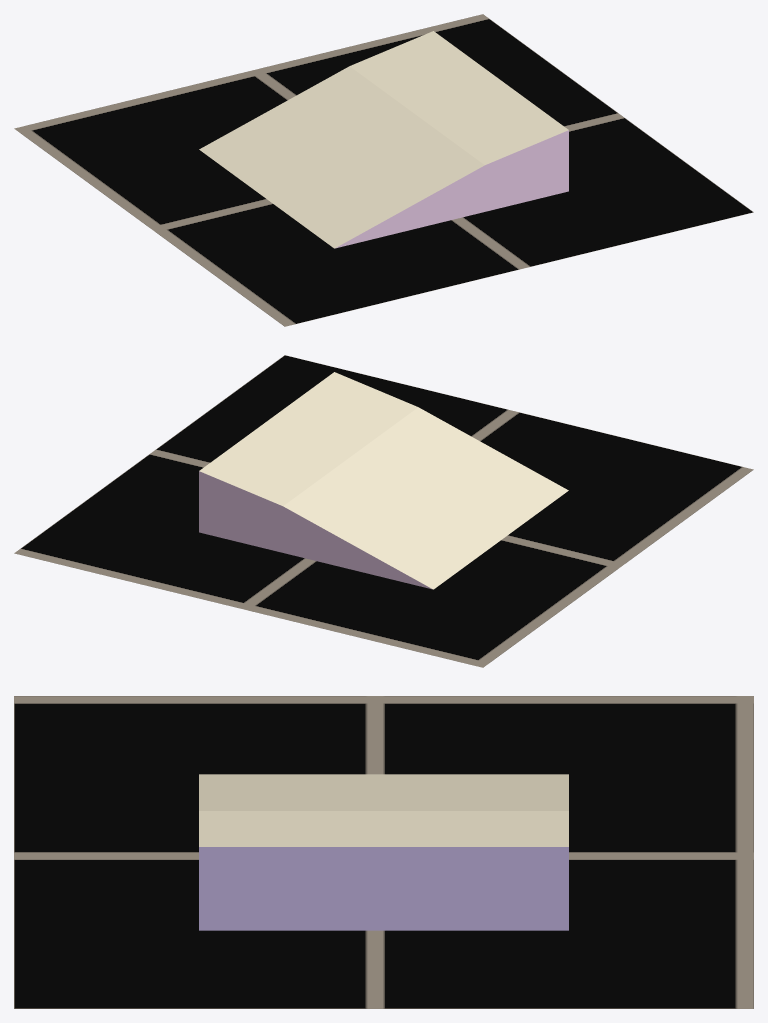
The model's file is Path_Terrain_Transition_Grass_Center_1x1.glb.
3 renders of one model, top to bottom at view 1: azimuth 30°, elevation 25°; view 2: azimuth 150°, elevation 25°; view 3: azimuth 270°, elevation 25°, orthographic. The views are drawn at different scales.
Parts seen in each view (by area): view 1: Floor, Path_Terrain_Transition_Grass_Center_1x1; view 2: Floor, Path_Terrain_Transition_Grass_Center_1x1; view 3: Floor, Path_Terrain_Transition_Grass_Center_1x1.
Boxes of the visible parts, box(x1,y1,x2,y2) form: Floor: box(14, 14, 753, 326); Path_Terrain_Transition_Grass_Center_1x1: box(199, 31, 568, 248); Floor: box(14, 355, 753, 667); Path_Terrain_Transition_Grass_Center_1x1: box(199, 372, 568, 589); Floor: box(14, 696, 753, 1008); Path_Terrain_Transition_Grass_Center_1x1: box(199, 774, 568, 930).
Size of the model in its own units: 200 by 25 by 200.
5 materials, 1 textured.
